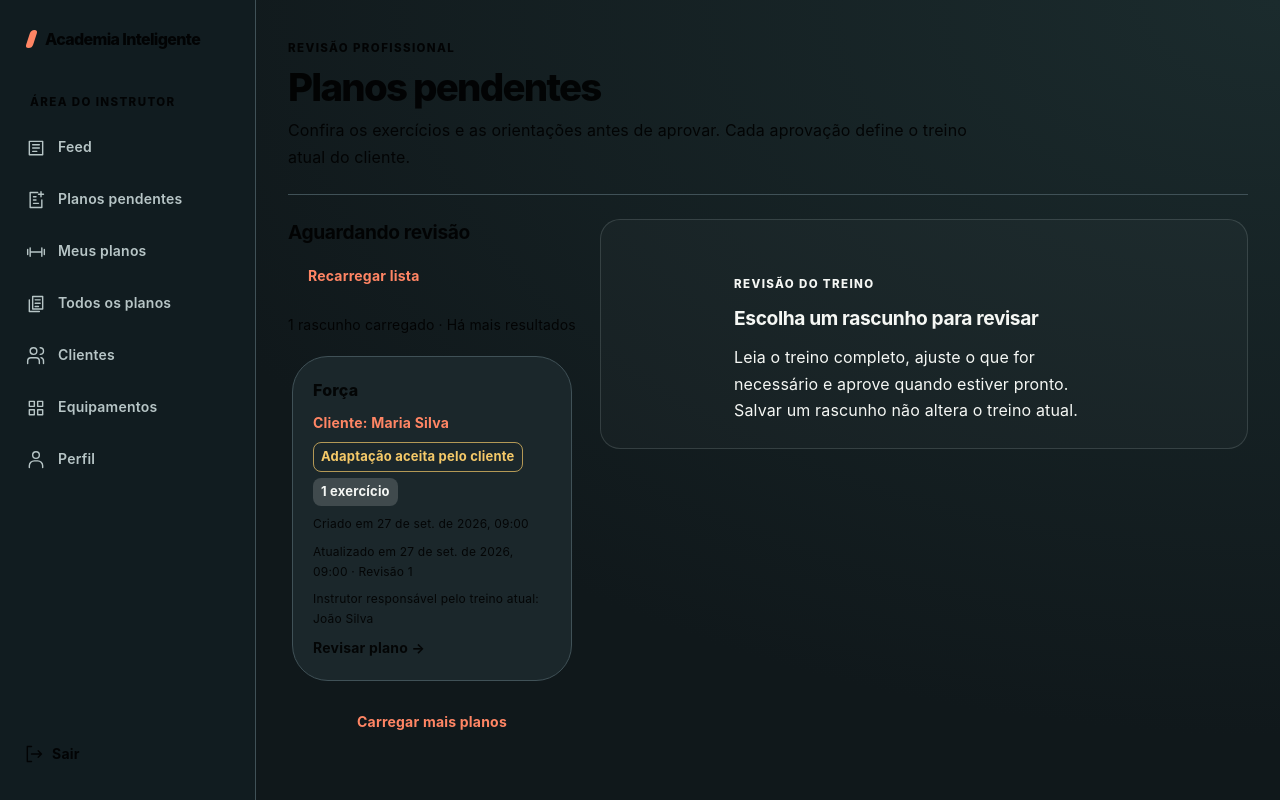
loads another bounded page without replacing the existing list
Click the button "Carregar mais planos": [432, 723] box [288,701,576,745]
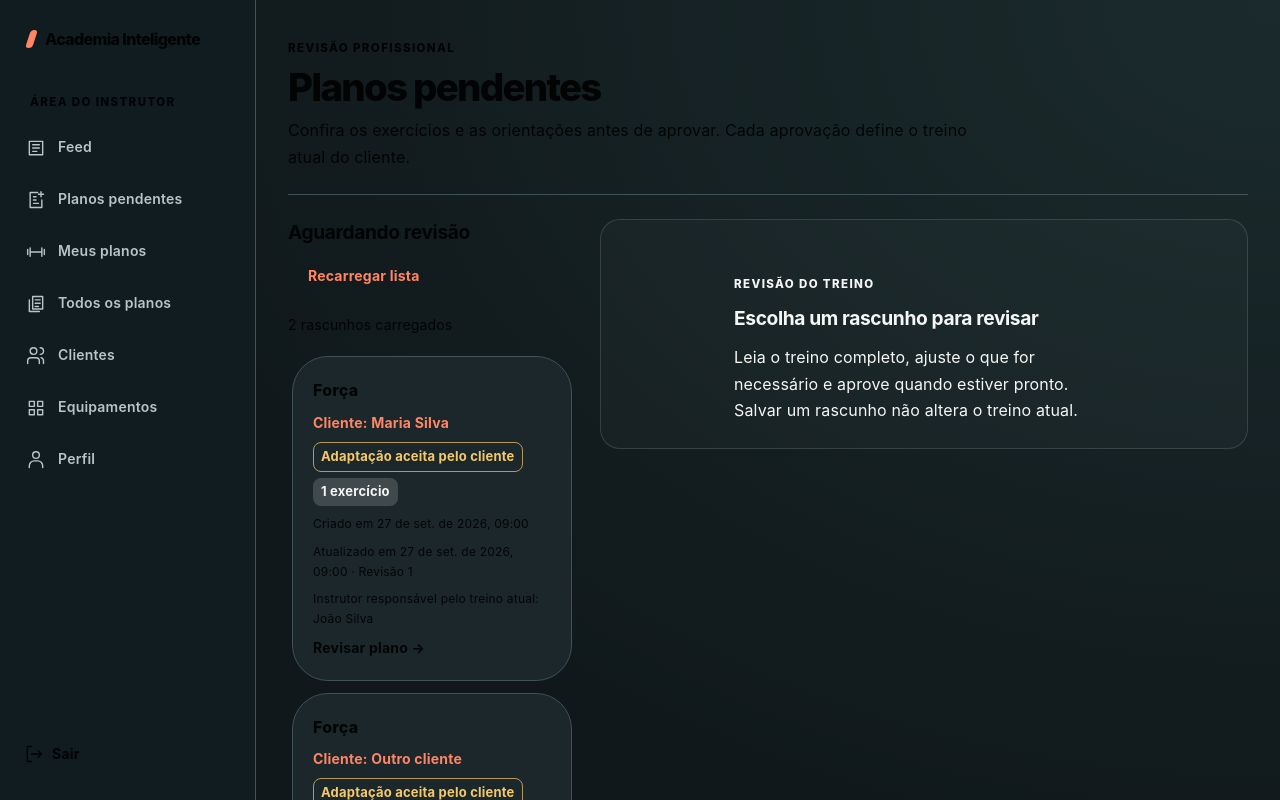
Expected: the text "Cliente: Maria Silva" is shown, [313,414,449,431]
Now the text "Cliente: Outro cliente" is shown, box [313,750,462,767]
